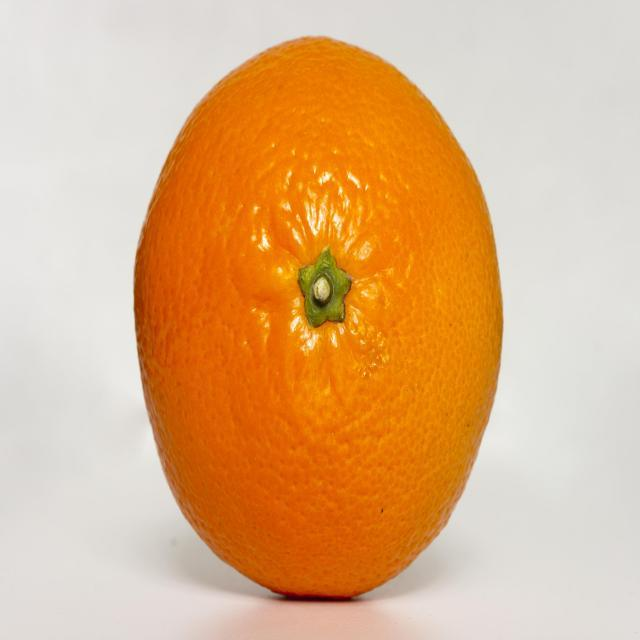Orange: (125, 36, 506, 607)
